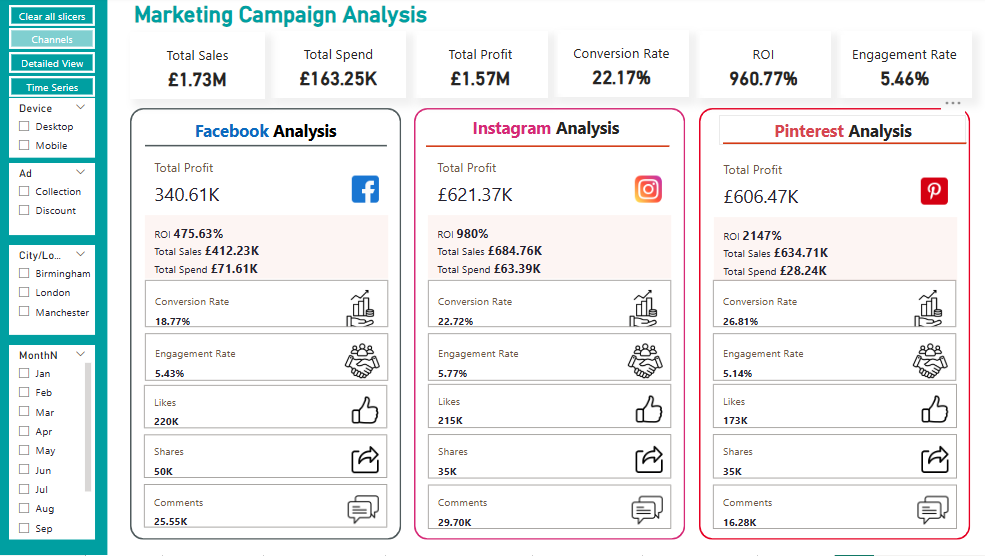

What the dashboard file says about the page in this screenshot:
{"tool":"powerbi","page":{"name":"Traffic Analysis","canvas":[1280,720],"ordinal":0},"visuals":[{"type":"shape","box":[534.3,142.9,350,557.1],"z":0},{"type":"shape","box":[167.1,142.9,350,557.1],"z":1000},{"type":"cardVisual","fields":{"Data":["data.Profit"]},"box":[181.4,188.6,324.3,180],"z":2000},{"type":"shape","box":[901.4,142.9,350,557],"z":3000},{"type":"cardVisual","fields":{"Data":["data._Likes","data._Shares","data._Comments"]},"box":[180,495.7,324.3,194.3],"z":4000},{"type":"textbox","box":[188.6,152.9,308.6,38.6],"z":5000},{"type":"shape","box":[187.1,161.4,314.3,61.4],"z":6000},{"type":"cardVisual","fields":{"Data":["data._ConversionRate","data._EngagementRate"]},"box":[181.4,360,324.3,140],"z":7000},{"type":"shape","box":[550,115.7,314.3,152.9],"z":8000},{"type":"textbox","box":[547.1,148.6,314.3,40],"z":9000},{"type":"cardVisual","fields":{"Data":["data._Likes","data._Shares","data._Comments"]},"box":[547.1,494.3,324.3,197.1],"z":10000},{"type":"cardVisual","fields":{"Data":["data._ConversionRate","data._EngagementRate"]},"box":[547.1,360,324.3,140],"z":11000},{"type":"cardVisual","fields":{"Data":["data._ConversionRate","data._EngagementRate"]},"box":[914.3,360,324.3,140],"z":12000},{"type":"cardVisual","fields":{"Data":["data._Likes","data._Shares","data._Comments"]},"box":[914.3,494.3,325.7,197.1],"z":13000},{"type":"textbox","box":[927.4,152.6,319.7,38.9],"z":14000},{"type":"shape","box":[933.1,161.3,313.9,54.7],"z":15000},{"type":"shape","box":[138.6,0,1141.4,132.9],"z":16000},{"type":"textbox","box":[167.1,0,555.7,44.3],"z":17000},{"type":"shape","box":[0,0,138.6,720],"z":18000},{"type":"cardVisual","fields":{"Data":["data.Profit"]},"box":[915.7,191.4,324.3,180],"z":19000},{"type":"cardVisual","fields":{"Data":["data.Profit"]},"box":[547.1,188.6,324.3,180],"z":20000},{"type":"slicer","fields":{"Values":["data.Device"]},"box":[11.4,130,111.4,77.1],"z":21000},{"type":"slicer","fields":{"Values":["data.Ad"]},"box":[11.4,214.3,111.4,92.9],"z":22000},{"type":"slicer","fields":{"Values":["data.City/Location"]},"box":[11.4,320,111.4,115.7],"z":23000},{"type":"slicer","fields":{"Values":["Calendar.MonthN"]},"box":[11.4,448.6,111.4,251.4],"z":24000},{"type":"actionButton","box":[11.4,10,111.4,27.1],"z":25000},{"type":"actionButton","box":[11.4,101.4,111.4,27],"z":26000},{"type":"actionButton","box":[11.4,70.5,111.4,27.1],"z":27000},{"type":"actionButton","box":[11.4,39.5,111.4,27.1],"z":28000},{"type":"cardVisual","fields":{"Data":["Sum(data.Spend, GBP)"]},"box":[349.7,44.3,174,87.1],"z":29000},{"type":"cardVisual","fields":{"Data":["data.Profit"]},"box":[532.3,44.3,174,87.1],"z":30000},{"type":"cardVisual","fields":{"Data":["data._ConversionRate"]},"box":[714.9,42.9,174,87.1],"z":31000},{"type":"cardVisual","fields":{"Data":["data.ROI"]},"box":[897.4,44.3,174,87.1],"z":32000},{"type":"cardVisual","fields":{"Data":["data.Total Sales"]},"box":[167.1,45.7,174,87.1],"z":33000},{"type":"cardVisual","fields":{"Data":["data._EngagementRate"]},"box":[1080,44.3,174,87.1],"z":34000}]}

Visuals, with their boxes in screenshot pixels (x1, y1, x2, y2), scaled from the page's 1280x720 canvas onto the 985x556 screenshot:
shape: box(411, 110, 680, 541)
shape: box(129, 110, 398, 541)
cardVisual - data.Profit: box(140, 146, 389, 285)
shape: box(694, 110, 963, 540)
cardVisual - data._Likes x data._Shares: box(139, 383, 388, 533)
textbox: box(145, 118, 383, 148)
shape: box(144, 125, 386, 172)
cardVisual - data._ConversionRate x data._EngagementRate: box(140, 278, 389, 386)
shape: box(423, 89, 665, 207)
textbox: box(421, 115, 663, 146)
cardVisual - data._Likes x data._Shares: box(421, 382, 671, 534)
cardVisual - data._ConversionRate x data._EngagementRate: box(421, 278, 671, 386)
cardVisual - data._ConversionRate x data._EngagementRate: box(704, 278, 953, 386)
cardVisual - data._Likes x data._Shares: box(704, 382, 954, 534)
textbox: box(714, 118, 960, 148)
shape: box(718, 125, 960, 167)
shape: box(107, 0, 984, 103)
textbox: box(129, 0, 556, 34)
shape: box(0, 0, 107, 555)
cardVisual - data.Profit: box(705, 148, 954, 287)
cardVisual - data.Profit: box(421, 146, 671, 285)
slicer - data.Device: box(9, 100, 94, 160)
slicer - data.Ad: box(9, 165, 94, 237)
slicer - data.City/Location: box(9, 247, 94, 336)
slicer - Calendar.MonthN: box(9, 346, 94, 541)
actionButton: box(9, 8, 94, 29)
actionButton: box(9, 78, 94, 99)
actionButton: box(9, 54, 94, 75)
actionButton: box(9, 31, 94, 51)
cardVisual - Sum(data.Spend, GBP): box(269, 34, 403, 101)
cardVisual - data.Profit: box(410, 34, 544, 101)
cardVisual - data._ConversionRate: box(550, 33, 684, 100)
cardVisual - data.ROI: box(691, 34, 824, 101)
cardVisual - data.Total Sales: box(129, 35, 262, 103)
cardVisual - data._EngagementRate: box(831, 34, 965, 101)
